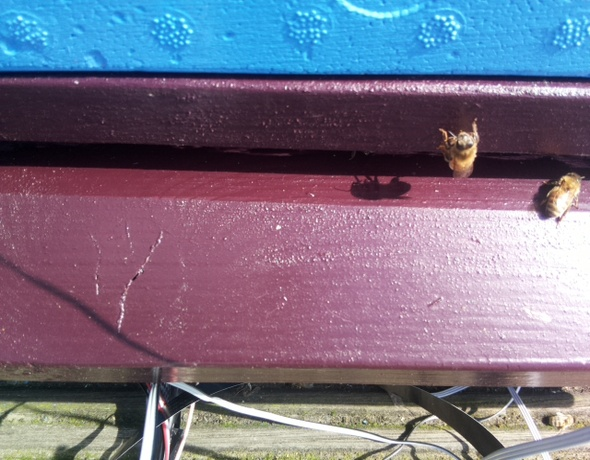no_pollen: (437, 119, 483, 183), (540, 168, 584, 221)
